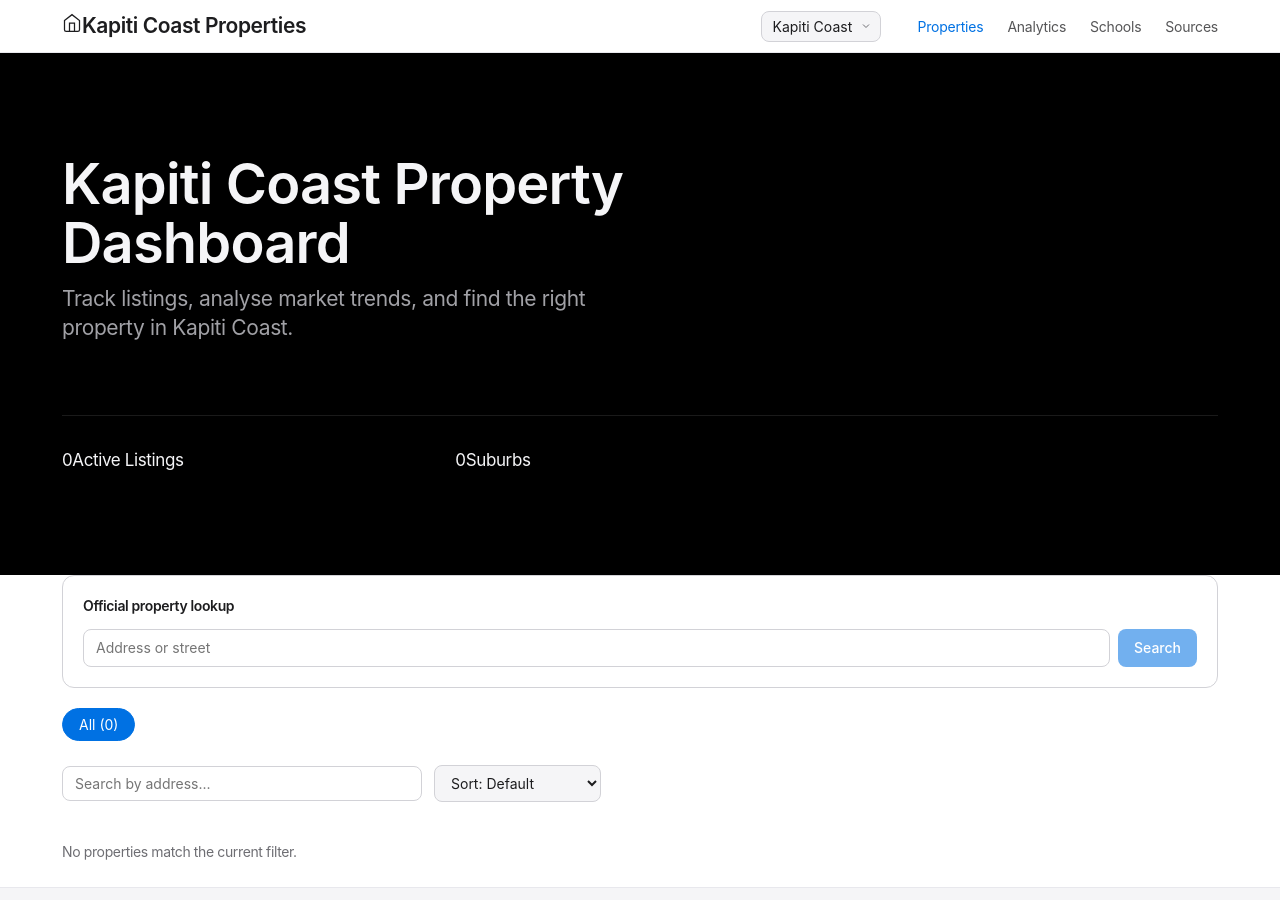
App › shows sources view when clicking Sources
What coordinates should you click on to do the following:
click the 4th button named "Sources"
I would click on:
 (1192, 26)
Its box is [1165, 18, 1218, 34].
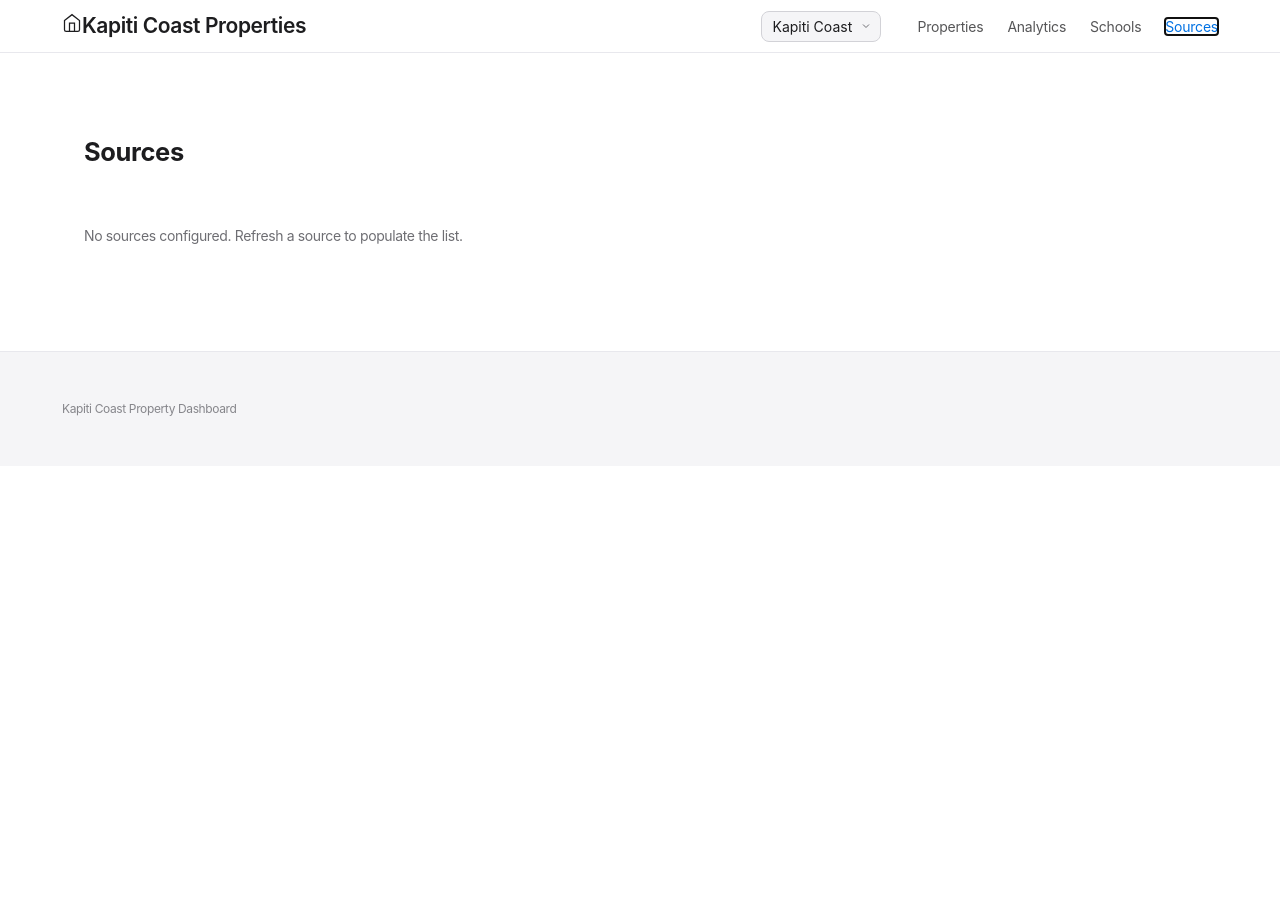
Now the element with test id "sources-view" is shown, box [84, 136, 463, 244]
